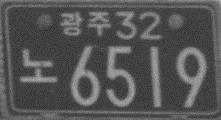1: (148, 44, 164, 111)
2: (139, 10, 163, 41)
3: (114, 10, 136, 39)
5: (105, 45, 136, 107)
6: (70, 45, 102, 107)
9: (175, 44, 208, 111)
광주_O: (60, 9, 110, 36)
노: (19, 46, 57, 83)
